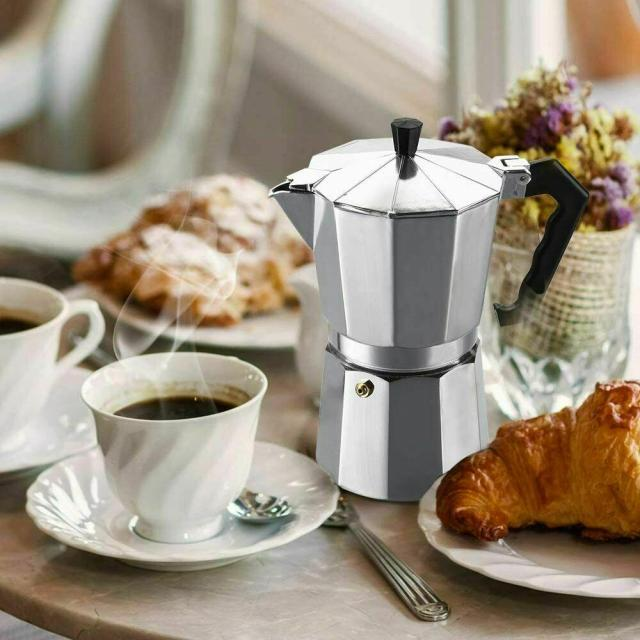cup: (102, 367, 266, 556), (2, 267, 122, 458)
jug: (270, 128, 528, 523)
